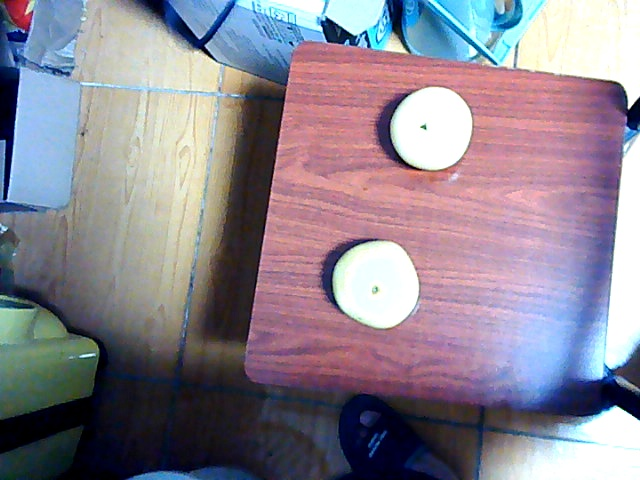pear: (332, 239, 420, 330), (387, 86, 475, 173)
